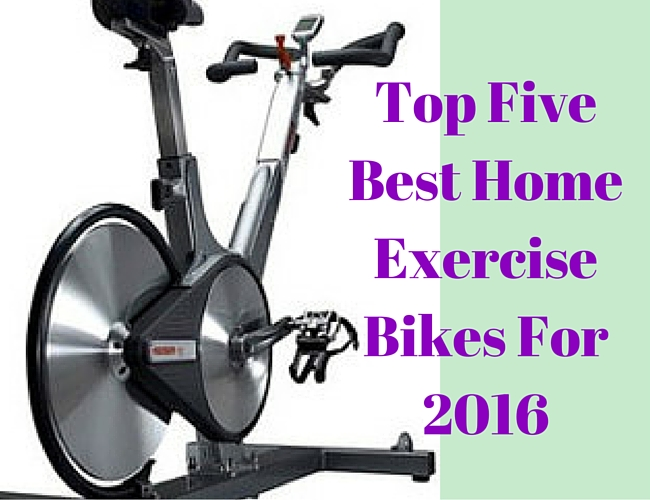gym_bike: (29, 1, 439, 498)
